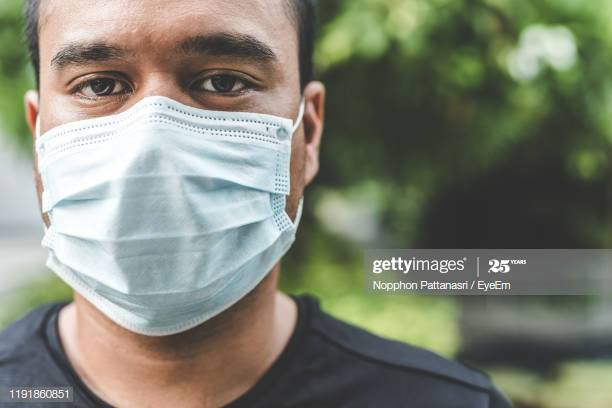mask: (14, 6, 343, 368)
